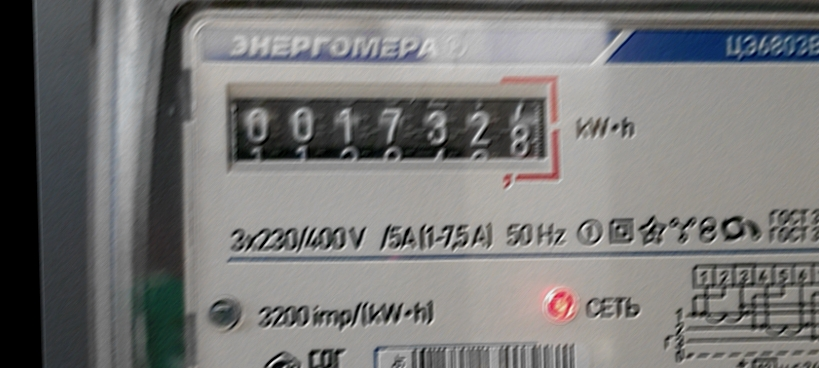0: (244, 105, 271, 146), (292, 106, 315, 144)
1: (336, 106, 356, 146)
2: (468, 110, 491, 148)
3: (426, 110, 449, 146)
7: (381, 106, 404, 146)
8: (510, 122, 529, 158)
screen: (215, 72, 571, 198)
